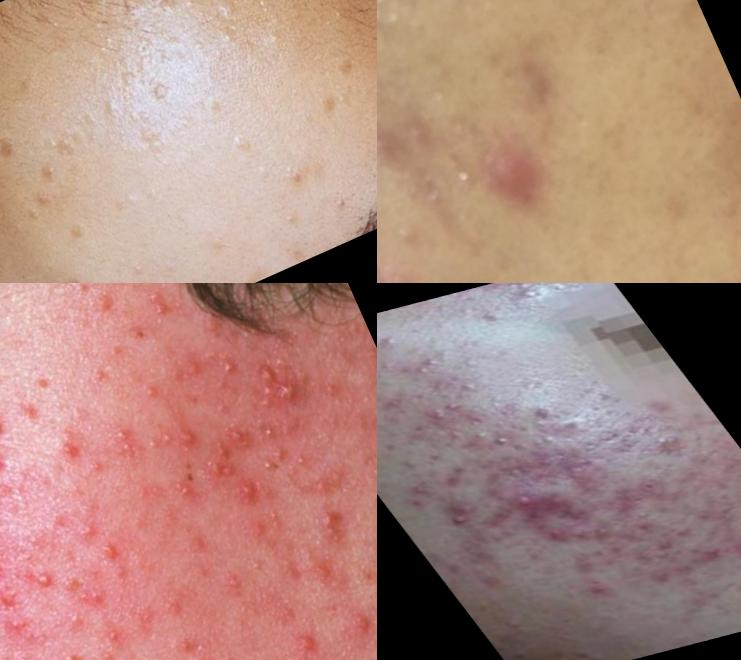blackhead: (321, 186, 376, 235)
flat_wart: (1, 86, 139, 229), (64, 1, 227, 78), (249, 163, 321, 230), (61, 202, 129, 265), (321, 43, 377, 92), (303, 88, 352, 135), (215, 121, 270, 156), (144, 72, 184, 114)
papular: (465, 124, 569, 225), (484, 475, 585, 532), (594, 471, 683, 515), (431, 494, 504, 535), (71, 569, 126, 621), (633, 555, 709, 592), (532, 513, 602, 551), (676, 492, 741, 529), (676, 531, 741, 567), (634, 425, 696, 462), (342, 595, 378, 647), (618, 506, 673, 539), (53, 433, 94, 471), (577, 576, 630, 605), (286, 632, 322, 660), (715, 530, 741, 568), (39, 650, 82, 660)
purulent: (237, 360, 305, 431), (136, 421, 187, 469), (309, 505, 358, 551), (136, 284, 181, 329), (211, 342, 253, 384), (172, 470, 207, 510), (230, 475, 265, 515), (29, 563, 66, 600), (100, 533, 138, 569), (289, 446, 323, 477), (255, 456, 284, 486), (1, 448, 13, 484), (1, 405, 9, 448)
sebo-crystan-conglo: (1, 510, 21, 585)
whitehead: (378, 1, 439, 56), (382, 206, 435, 269), (256, 20, 305, 64), (406, 355, 459, 389), (452, 161, 486, 202), (419, 182, 454, 220), (526, 430, 580, 454), (509, 284, 561, 306), (121, 257, 157, 284), (481, 432, 526, 453), (378, 329, 410, 357), (464, 422, 502, 445), (436, 397, 468, 414), (463, 378, 488, 394)
